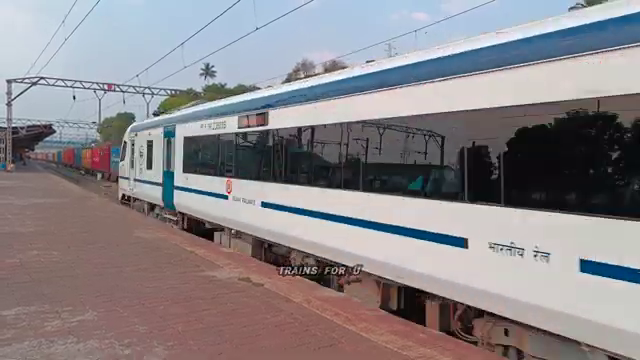Boogie: (199, 120, 230, 130)
